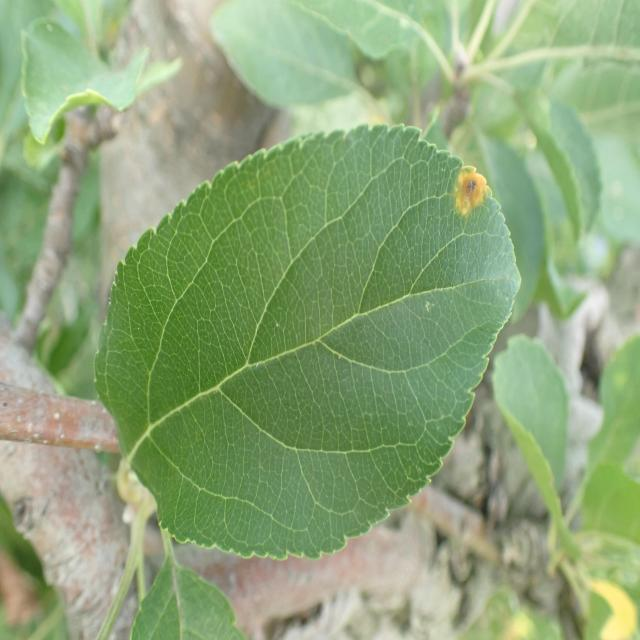Rust: (439, 105, 495, 252)
